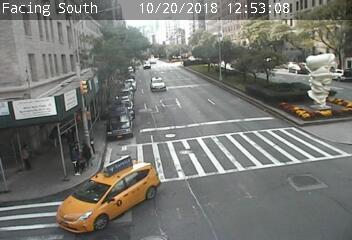car: (152, 79, 165, 92), (142, 62, 150, 69)
